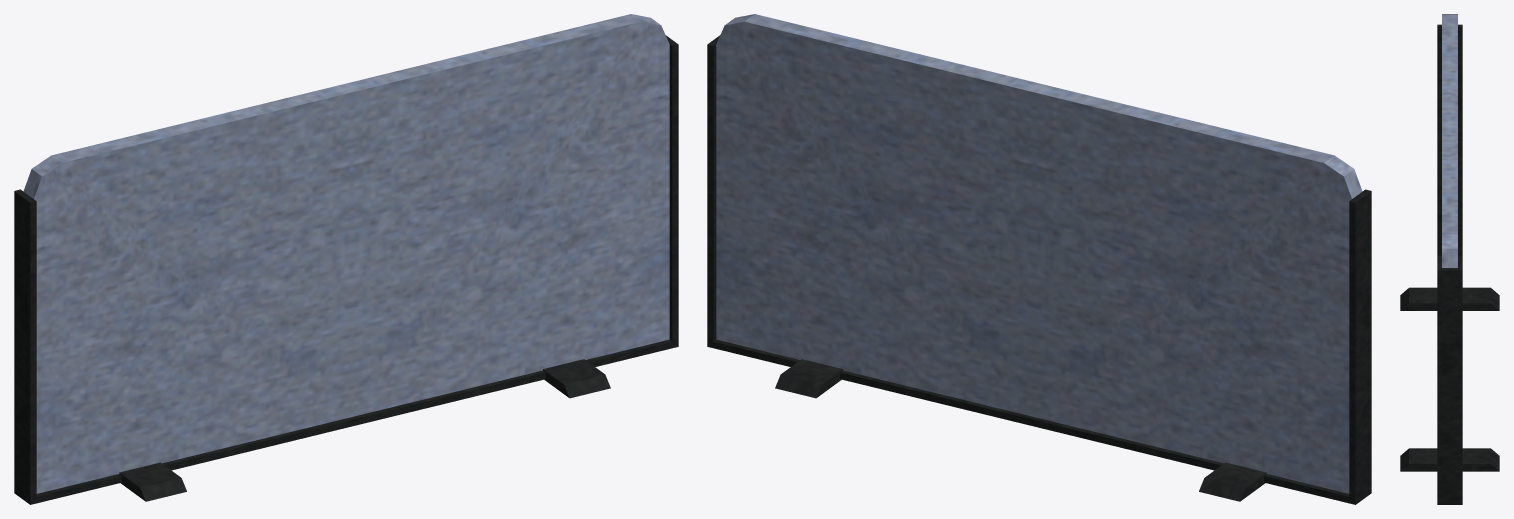
The model's file is divider_black_blue_low.obj.
3 views of the same model, side by side, from view 1: azimuth 30°, elevation 25°; view 2: azimuth 150°, elevation 25°; view 3: azimuth 270°, elevation 25° (orthographic). The views are drawn at different scales.
Visible parts, largest first — view 1: divider_black_blue_low; view 2: divider_black_blue_low; view 3: divider_black_blue_low.
Boxes of the visible parts, box(x1,y1,x2,y2) form: divider_black_blue_low: box(14, 14, 678, 504); divider_black_blue_low: box(707, 14, 1371, 504); divider_black_blue_low: box(1400, 14, 1499, 504).
Bounding box in the file's own units: 3.06 × 1.5 × 0.523.
